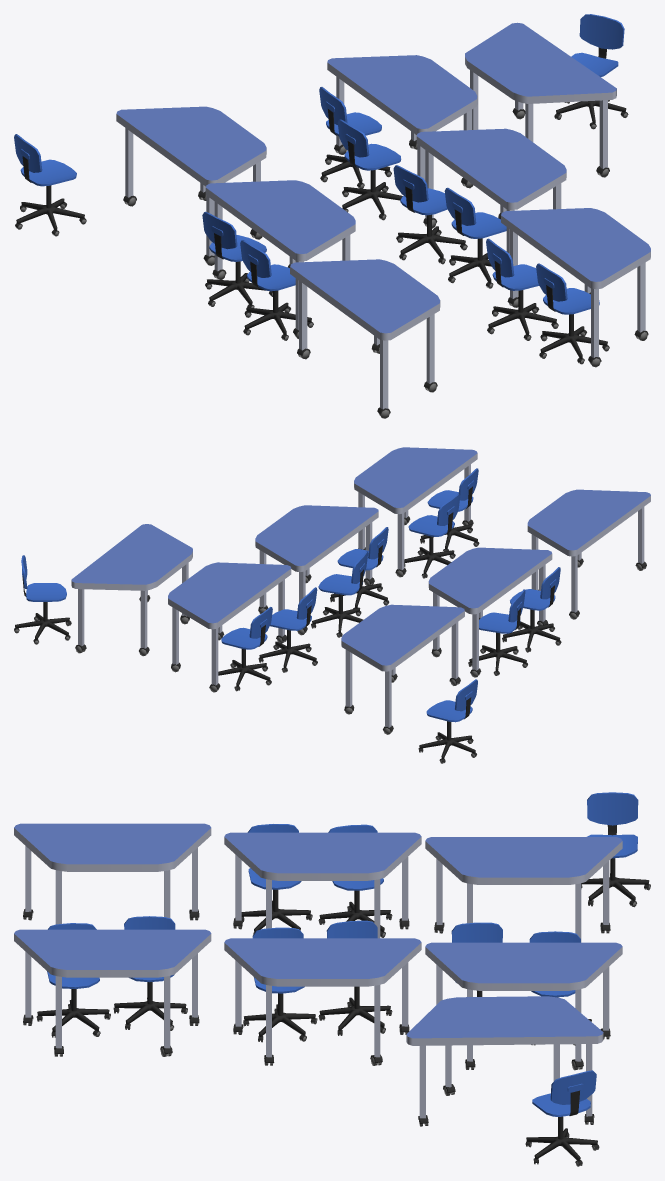
The model's file is tablechairV1.fbx.
3 renders of one model, top to bottom at view 1: azimuth 30°, elevation 25°; view 2: azimuth 150°, elevation 25°; view 3: azimuth 270°, elevation 25°, orthographic. The views are drawn at different scales.
Parts seen in each view (by area): view 1: table_blue5, table_blue2, table_blue9, table_blue3, table_blue, table_blue4, table_blue1, chair_blue7, chair_blue3, chair_blue1, chair_blue6, chair_blue5 (+5 smaller); view 2: table_blue3, table_blue, table_blue5, table_blue9, table_blue2, table_blue4, table_blue1, chair_blue7, chair_blue, chair_blue4, chair_blue1, chair_blue9 (+5 smaller); view 3: table_blue2, table_blue1, table_blue4, table_blue5, table_blue9, table_blue3, table_blue, chair_blue6, chair_blue7, chair_blue3, chair_blue2, chair_blue4 (+5 smaller).
Boxes of the visible parts, x1,y1,x2,y2 form: table_blue5: (290, 259, 440, 418); table_blue2: (501, 208, 650, 367); table_blue9: (465, 22, 616, 177); table_blue3: (116, 106, 266, 265); table_blue: (327, 55, 477, 188); table_blue4: (205, 180, 355, 338); table_blue1: (416, 128, 566, 253); chair_blue7: (14, 134, 86, 236); chair_blue3: (393, 165, 467, 264); chair_blue1: (337, 119, 402, 220); chair_blue6: (554, 14, 628, 129); chair_blue5: (536, 263, 609, 364); table_blue3: (341, 604, 464, 734); table_blue: (168, 562, 291, 692); table_blue5: (527, 489, 650, 619); table_blue9: (71, 524, 192, 656); table_blue2: (354, 447, 477, 577); table_blue4: (428, 547, 552, 677); table_blue1: (255, 505, 378, 635); chair_blue7: (418, 679, 477, 763); chair_blue: (218, 607, 272, 691); chair_blue4: (404, 494, 460, 578); chair_blue1: (258, 587, 317, 672); chair_blue9: (468, 589, 527, 675); table_blue2: (14, 929, 211, 1056); table_blue1: (224, 938, 421, 1065); table_blue4: (224, 832, 421, 938); table_blue5: (14, 823, 211, 924); table_blue9: (406, 996, 603, 1126); table_blue3: (425, 837, 622, 942); table_blue: (425, 942, 622, 1070); chair_blue6: (525, 1070, 599, 1166); chair_blue7: (581, 792, 650, 907); chair_blue3: (318, 920, 392, 1035); chair_blue2: (243, 927, 317, 1042); chair_blue4: (113, 916, 187, 1030).
Bounding box in the file's own units: 0.129 × 0.0191 × 0.1194.
